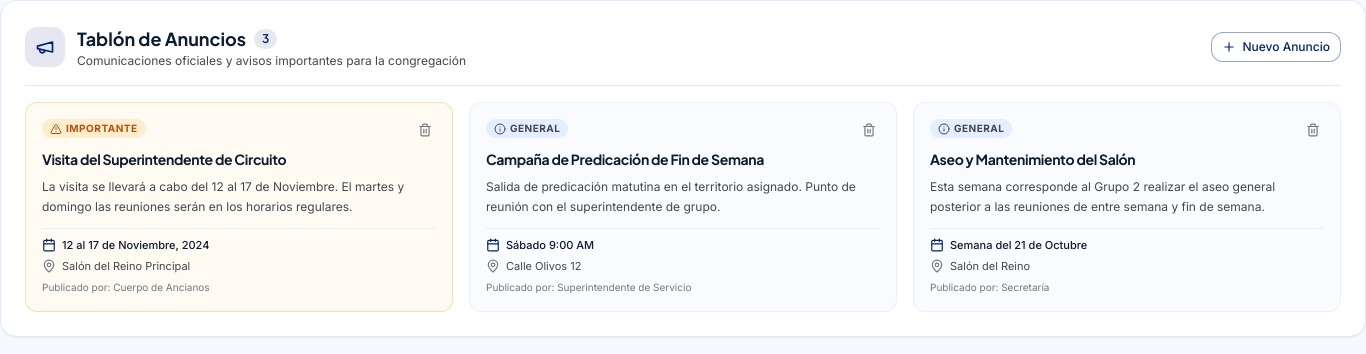
AnnouncementsBoard organism › permite eliminar un anuncio cuando canManage es true
Expected: the heading "Visita del Superintendente de Circuito" is shown, top-left (42, 150), bottom-right (286, 168)
Click the button named "eliminar anuncio visita del superintendente de circuito".
click(425, 130)  # box top-left (414, 119), bottom-right (436, 141)
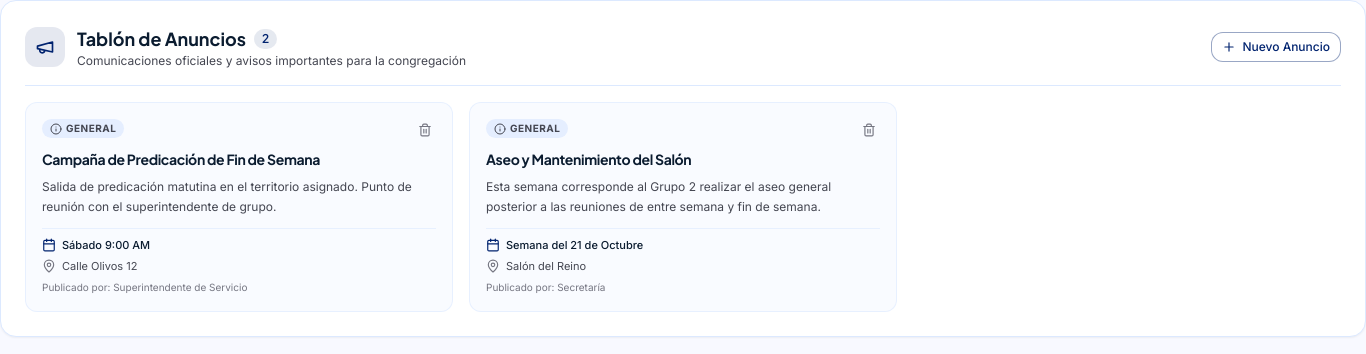
Expected: the heading "Visita del Superintendente de Circuito" is gone
